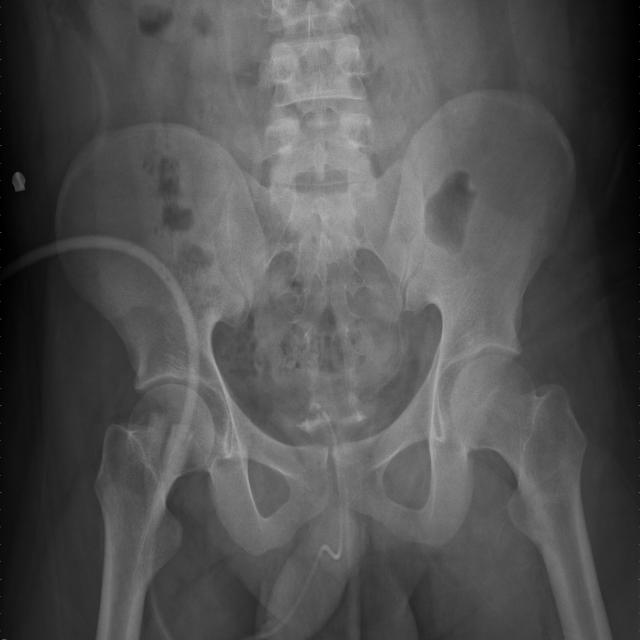normal-left: (452, 356, 612, 640)
normal-right: (95, 384, 214, 640)
